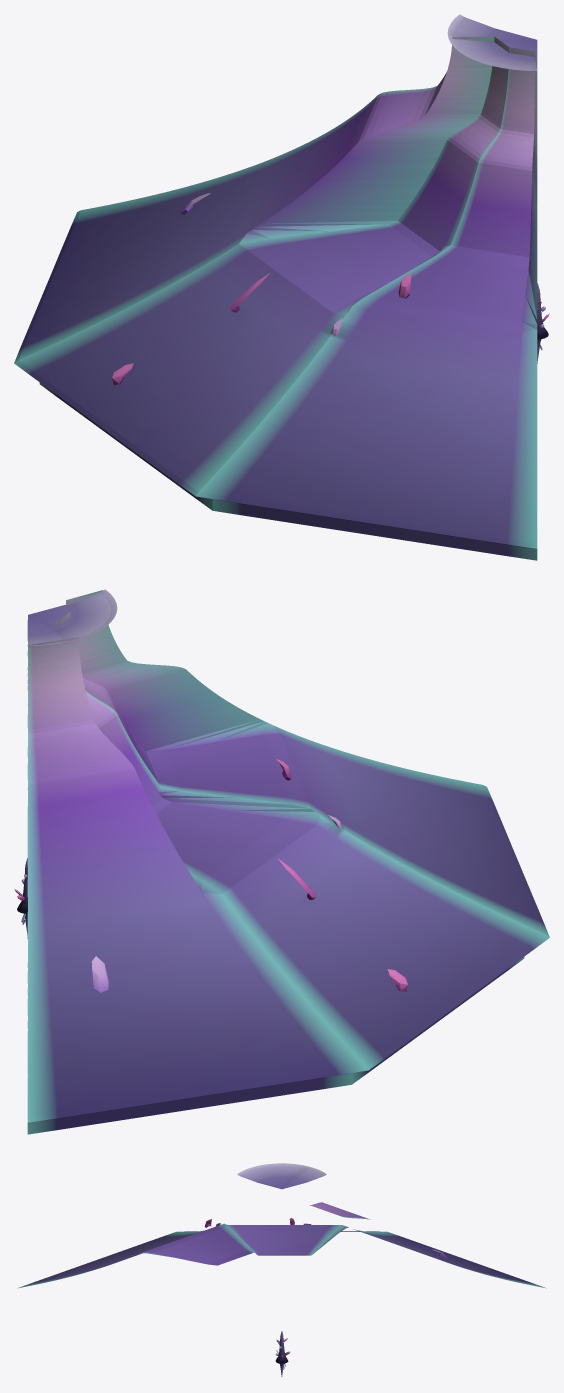
File: caverns-s3-Ce_QiLUk.glb
3 views of the same model, one above another, from view 1: azimuth 30°, elevation 25°; view 2: azimuth 150°, elevation 25°; view 3: azimuth 270°, elevation 25° (orthographic). The views are drawn at different scales.
Parts seen in each view (by area): view 1: sc_landmark_1; view 2: sc_landmark_1; view 3: sc_landmark_1.
Boxes of the visible parts, left/top/right/bottom form: sc_landmark_1: left=14, top=14, right=537, bottom=560; sc_landmark_1: left=27, top=589, right=549, bottom=1134; sc_landmark_1: left=17, top=1163, right=546, bottom=1288.
Size of the model in its own units: 419 by 298 by 749.
